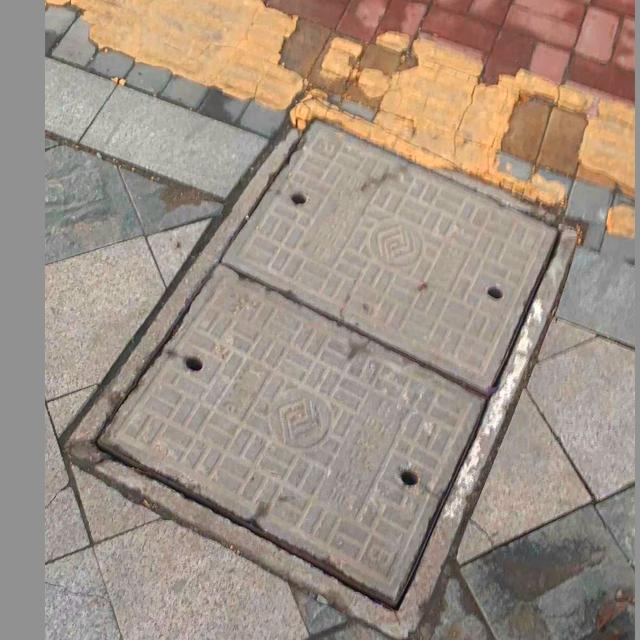good: (57, 100, 582, 640)
